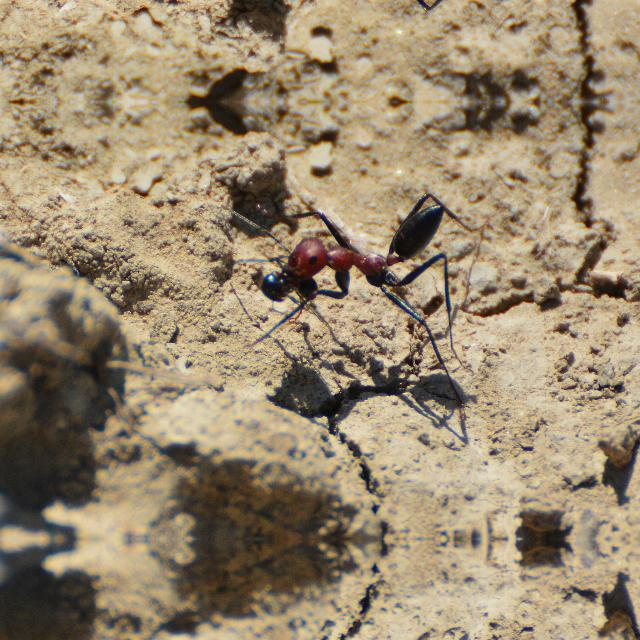Cataglyphis: (234, 193, 478, 325)
